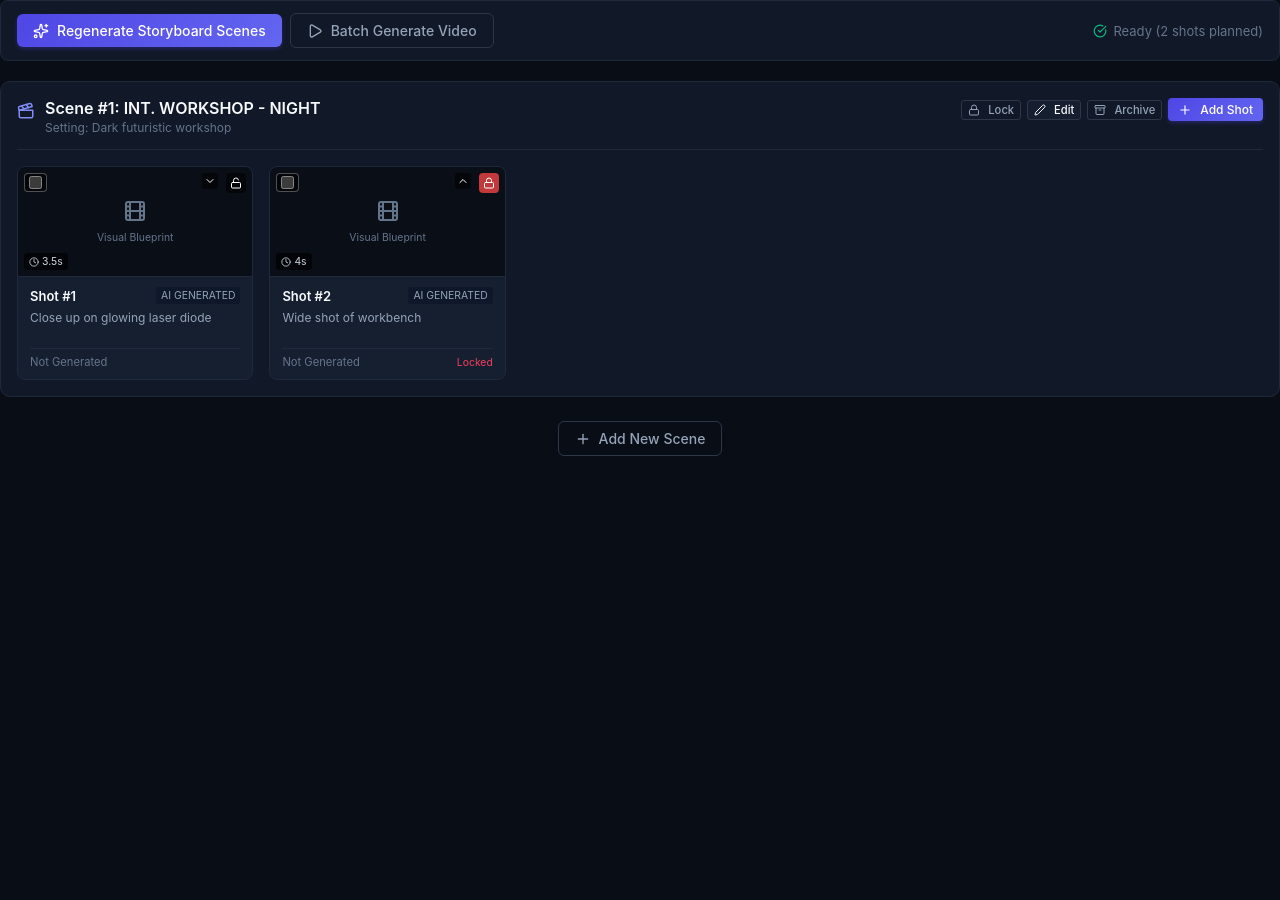
Test: StoryboardGrid › opens shot detail drawer on click and shows lock status
Step 1. Click the element with test id "shot-card-sh-1" → (135,273), box [17,166,253,380]
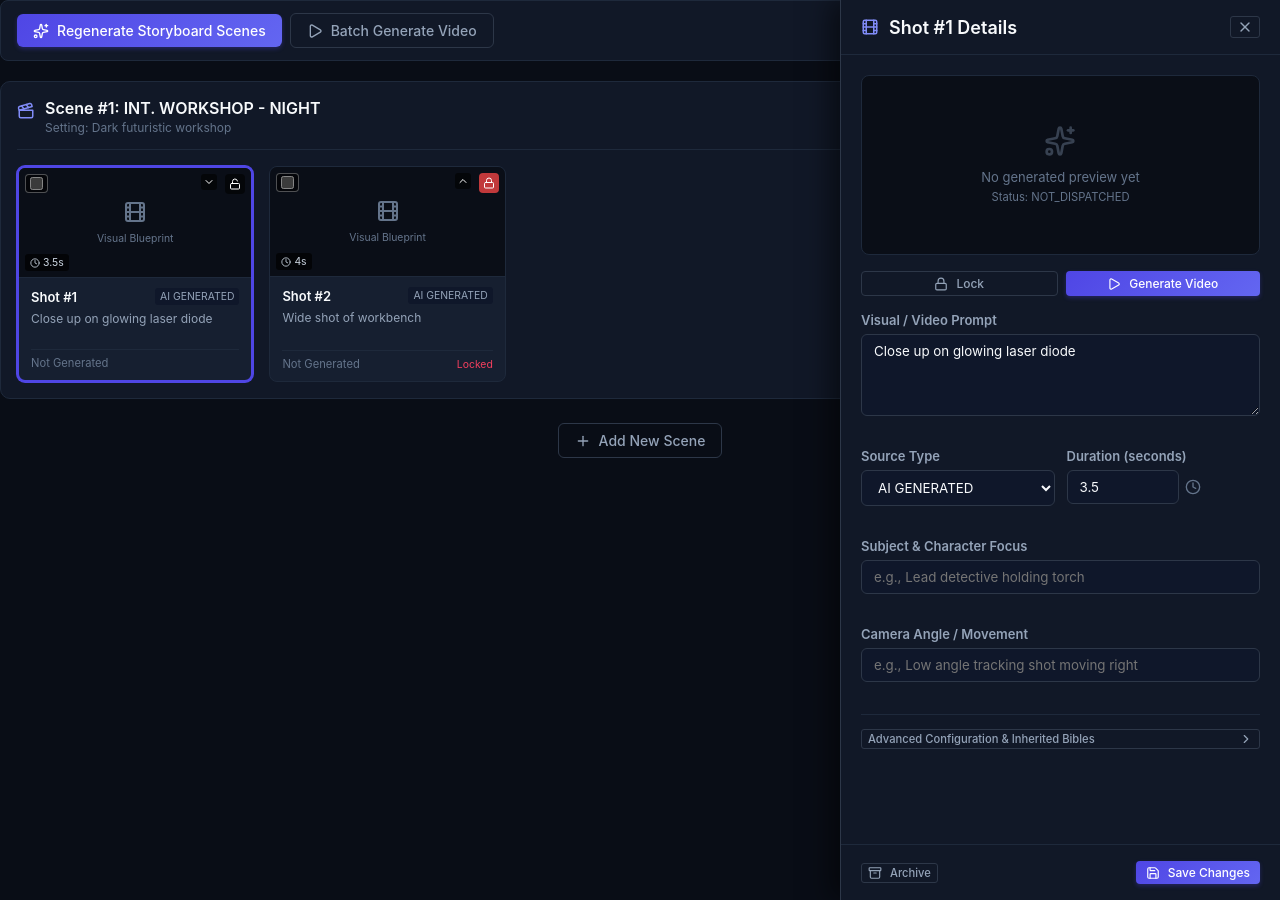
Result: the element with test id "shot-detail-drawer" is shown at [840,0,1279,899]
Result: the heading "Shot #1 Details" is shown at [889,16,1017,38]
